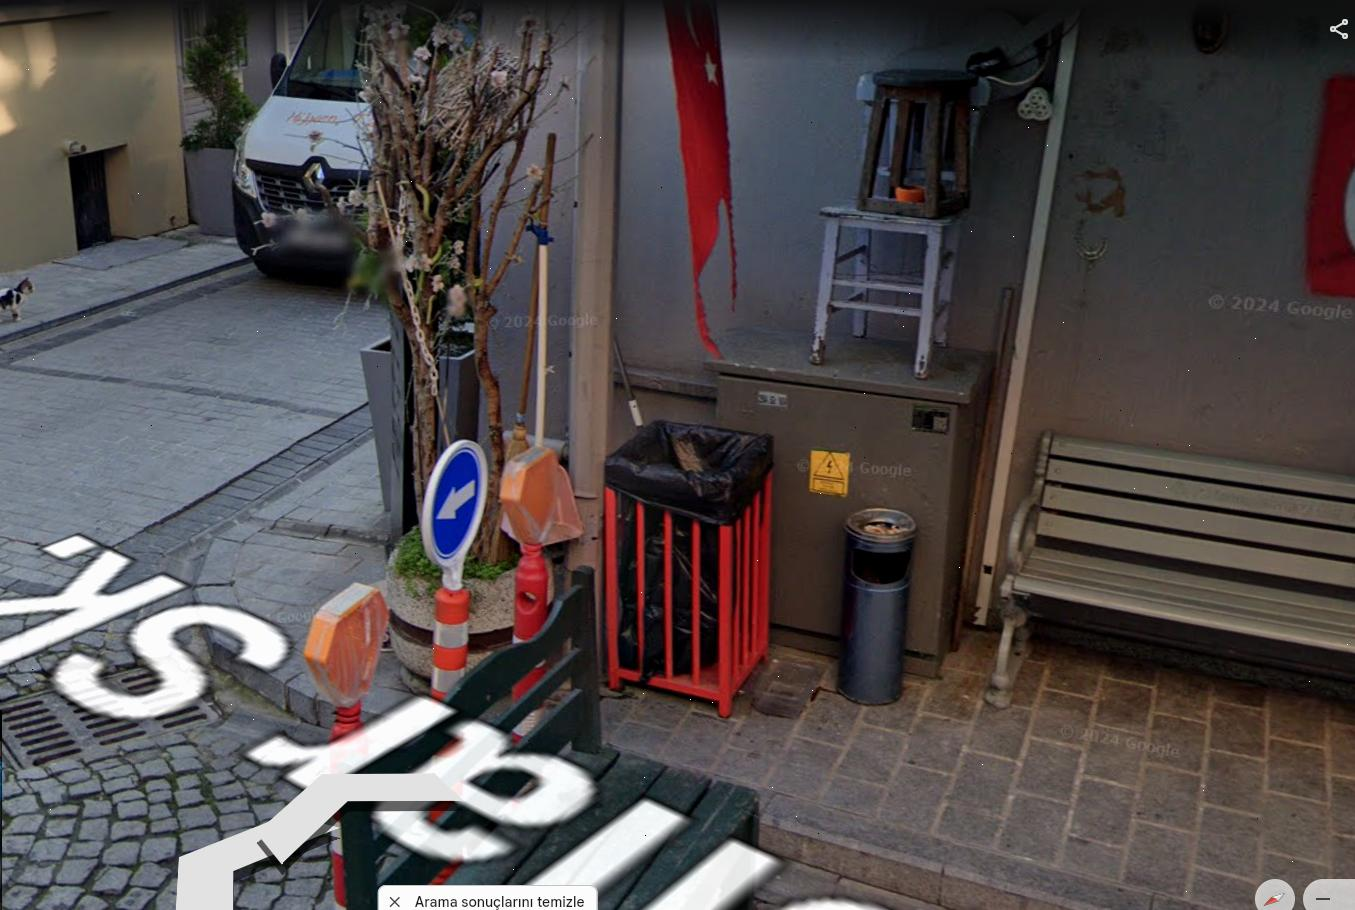turnleft: (426, 442, 492, 550)
